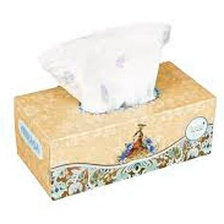book: (9, 57, 220, 203)
tissue: (33, 16, 173, 117)
